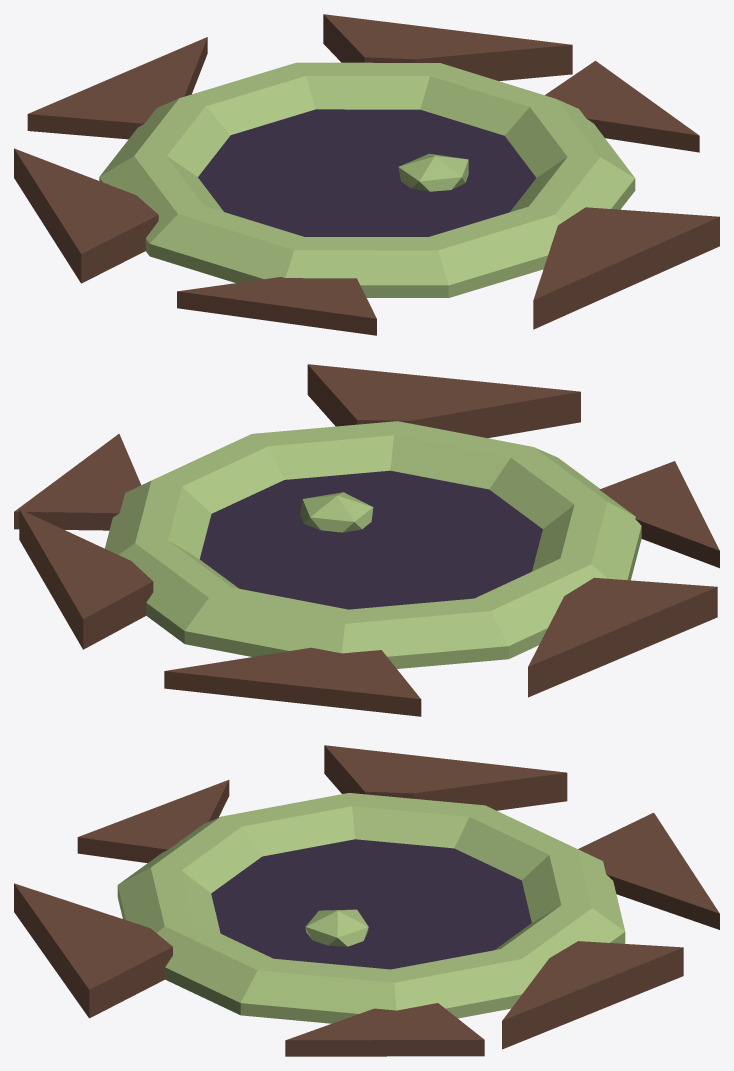
The model's file is crater-m-medieval.glb.
3 renders of one model, top to bottom at view 1: azimuth 30°, elevation 25°; view 2: azimuth 150°, elevation 25°; view 3: azimuth 270°, elevation 25°, orthographic. The views are drawn at different scales.
Visible parts, largest first — view 1: crater-m-medieval; view 2: crater-m-medieval; view 3: crater-m-medieval.
Boxes of the visible parts, x1,y1,x2,y2 form: crater-m-medieval: (14,14,719,335); crater-m-medieval: (14,364,719,716); crater-m-medieval: (14,745,719,1056).
Size of the model in its own units: 1.48 by 0.1032 by 1.56.
